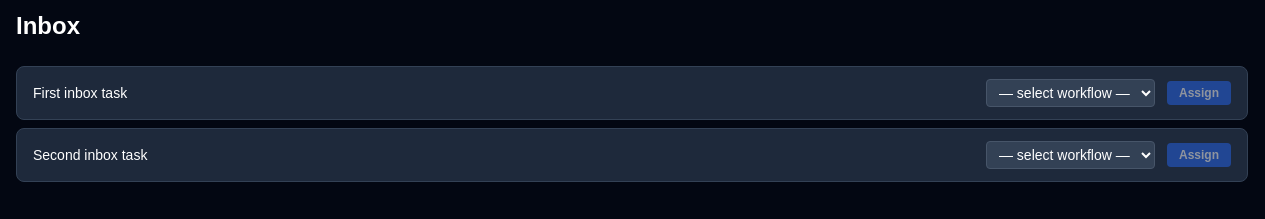
Test case: shows a field error inline when the Assign PATCH returns 422 with fieldErrors
Expected: the text "First inbox task" is shown, [33, 85, 127, 101]
Select "Alpha" in the dropdown named "Assign \"First inbox task\" to a workflow" at (1070, 93), box [986, 79, 1155, 107]
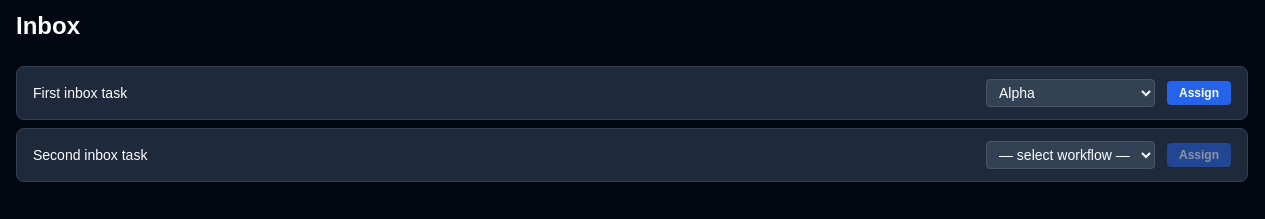
Click the button "Assign" in the row of "First inbox task" at (1199, 93), box [1167, 81, 1231, 105]
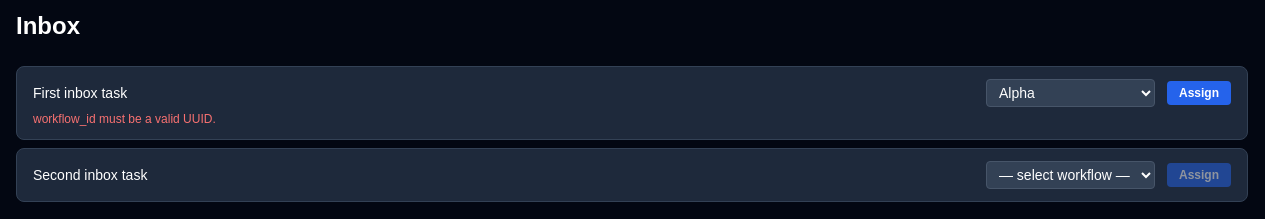
Expected: the text "First inbox task" is shown, [33, 85, 127, 101]
Expected: the text "workflow_id must be a valid UUID." is shown, [33, 112, 216, 126]
